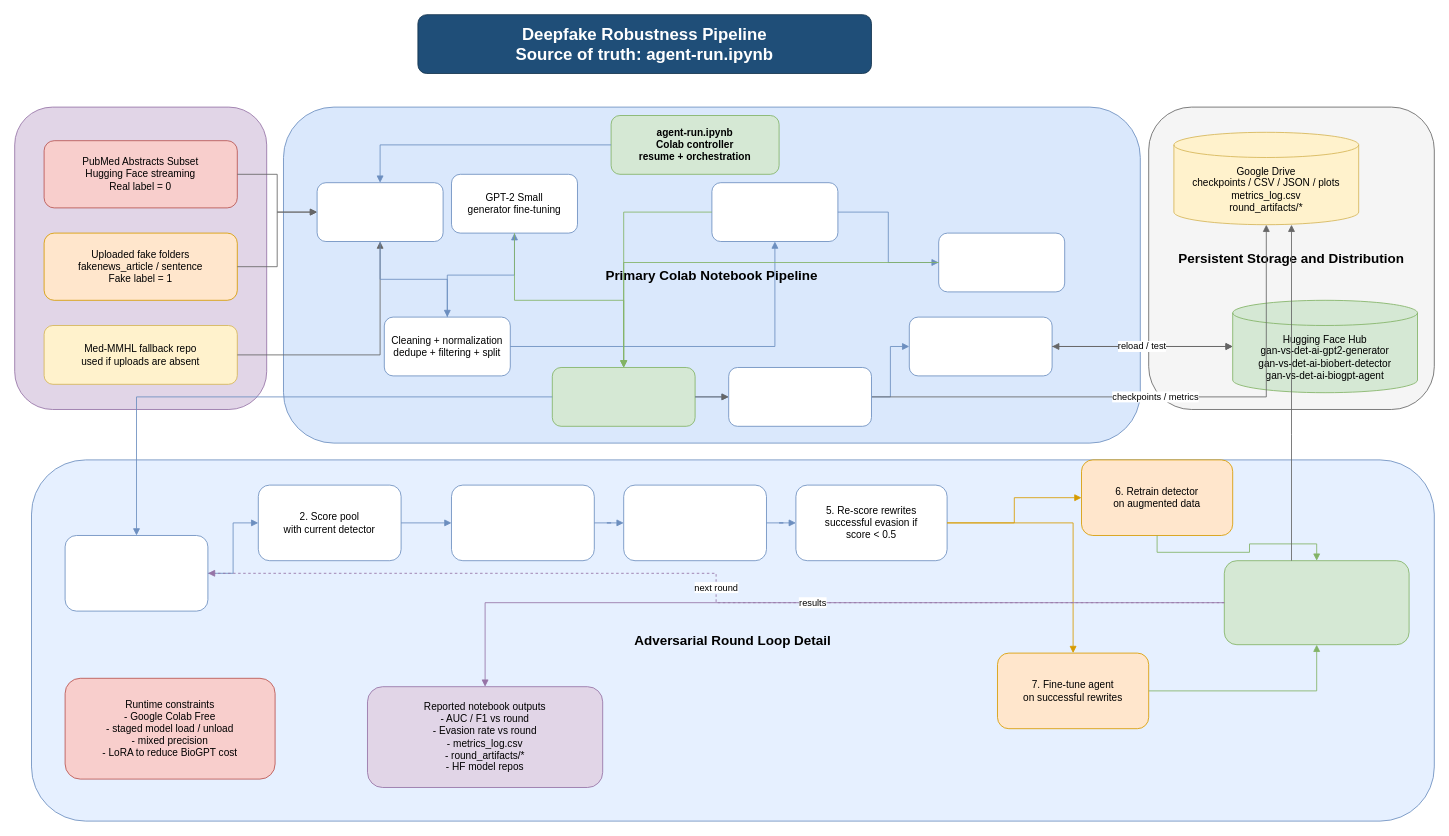
This 1449x836 diagram has some shape labels left out. Here are the shapes that lost their labels. From the top down, the centre of each, then its label:
(379,212): Dataset acquisition download / upload / fallback
(774,212): BioBERT baseline detector
(1001,262): BioGPT + LoRA agent setup
(980,346): HF Hub export / reload publish + sanity check
(623,396): Adversarial round loop 5 rounds
(800,396): Evaluation + plots AUC / F1 / evasion rate
(522,522): 3. Select hard samples Top-K = 50
(694,522): 4. Rewrite with BioGPT + LoRA
(136,573): 1. Generate fake pool GPT-2 pool size = 200
(1316,602): 8. Evaluate on test split save metrics / rewrites / predictions
